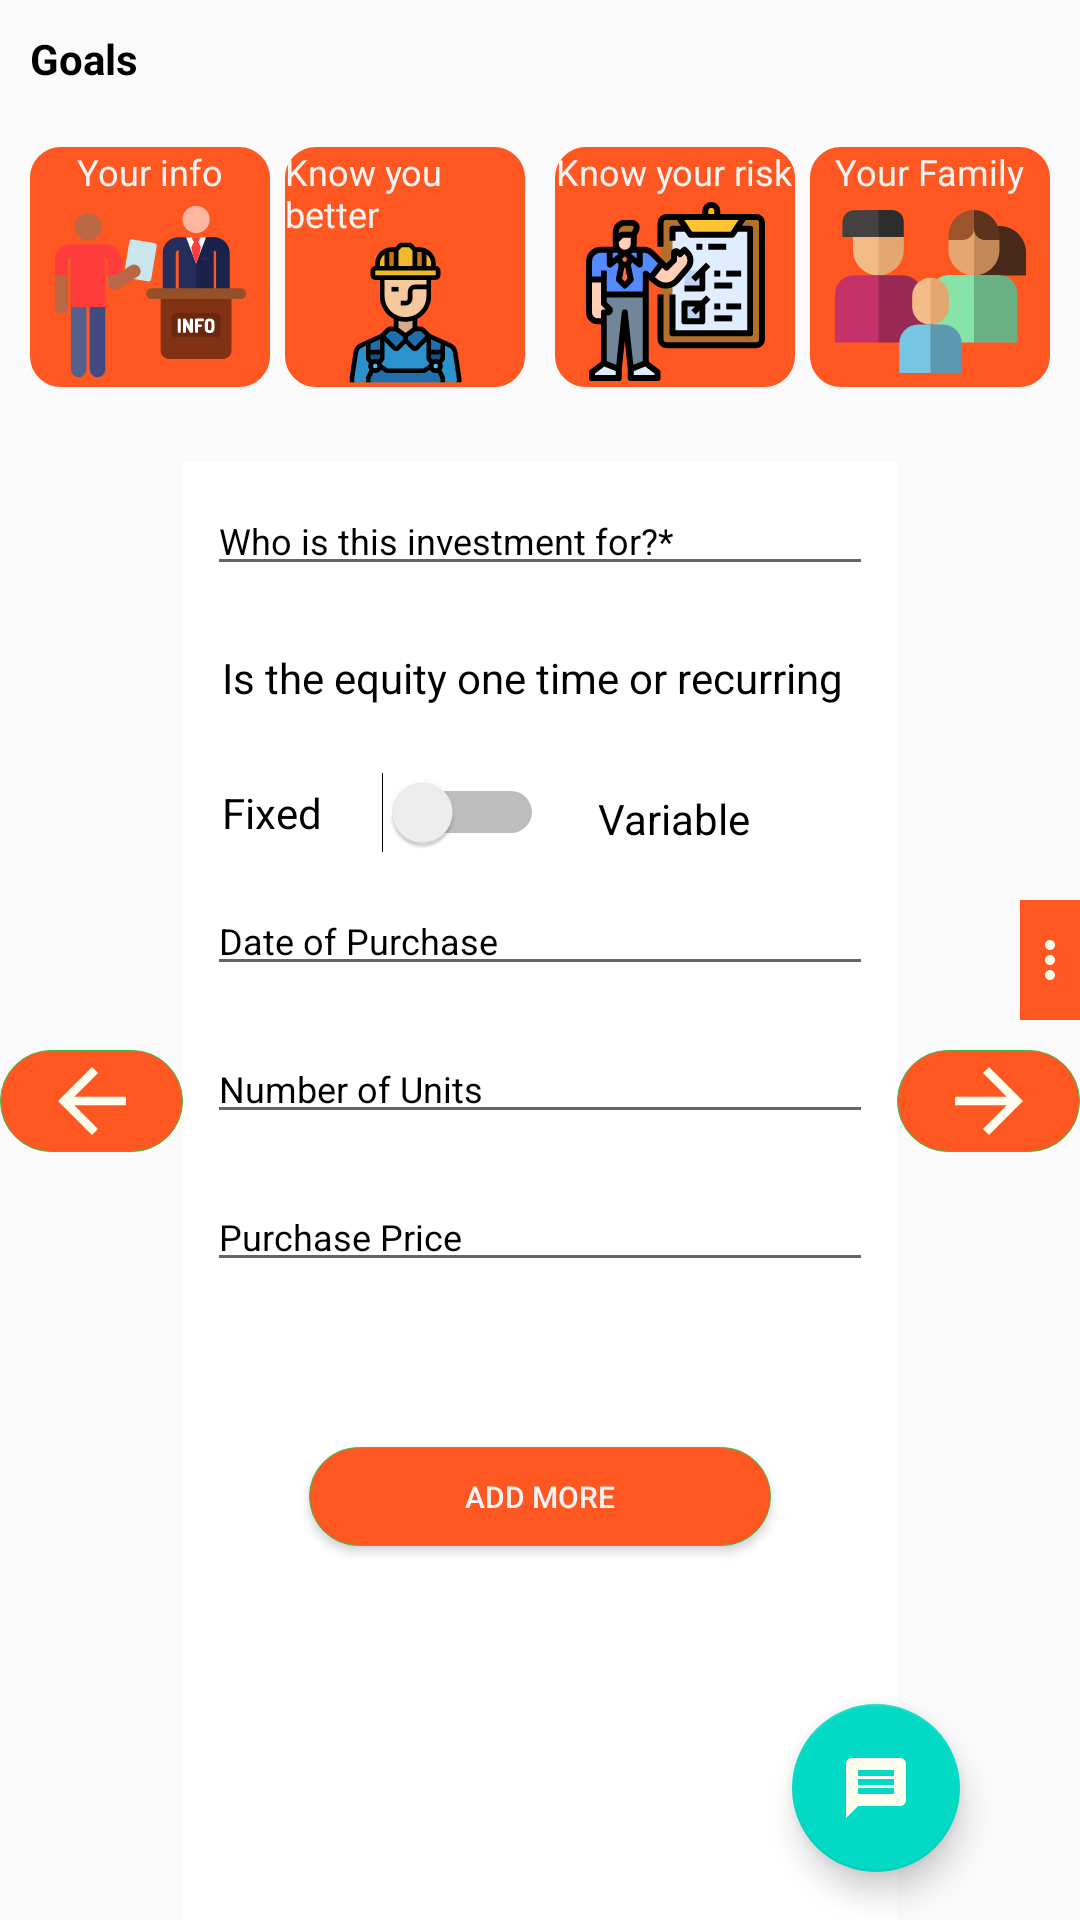

Icon bounding boxes for this 1080 x 1920 phone screenshot, format (x1, y1, x2, y2):
arrow back: (0, 1050, 183, 1152)
arrow forward: (897, 1050, 1080, 1152)
message: (792, 1704, 960, 1872)
more: (1020, 900, 1080, 1020)
